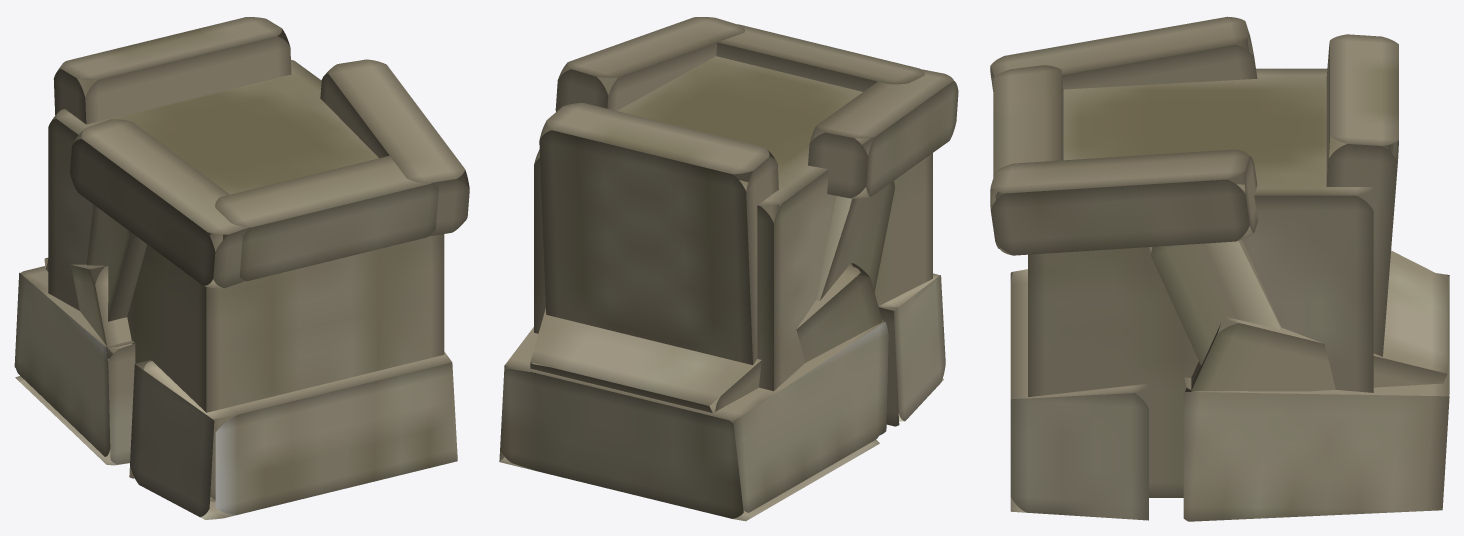
Rendered from generic_light_tan_b_l.obj.
The picture shows the model from 3 angles, left to right: view 1: azimuth 30°, elevation 25°; view 2: azimuth 150°, elevation 25°; view 3: azimuth 270°, elevation 25°; orthographic projection. The views are drawn at different scales.
Visible parts, largest first — view 1: cube; view 2: cube; view 3: cube.
Part boxes in pixels (x1=…): cube: x1=14, y1=17, x2=469, y2=519; cube: x1=499, y1=17, x2=958, y2=521; cube: x1=990, y1=16, x2=1449, y2=521.
Bounding box in the file's own units: 0.3519 × 0.3565 × 0.4171.
